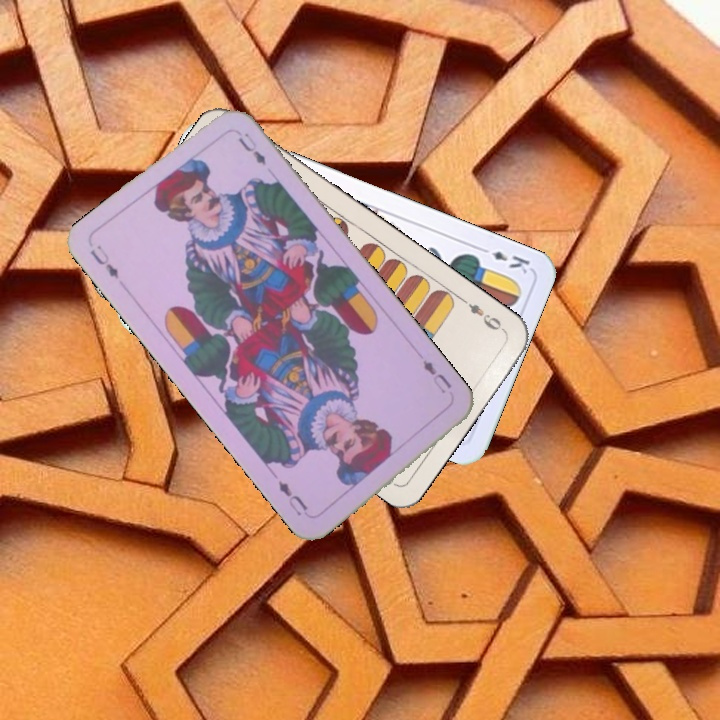E9: (457, 294, 508, 335)
EK: (475, 242, 533, 277)
EU: (86, 241, 122, 282), (419, 356, 454, 396)
